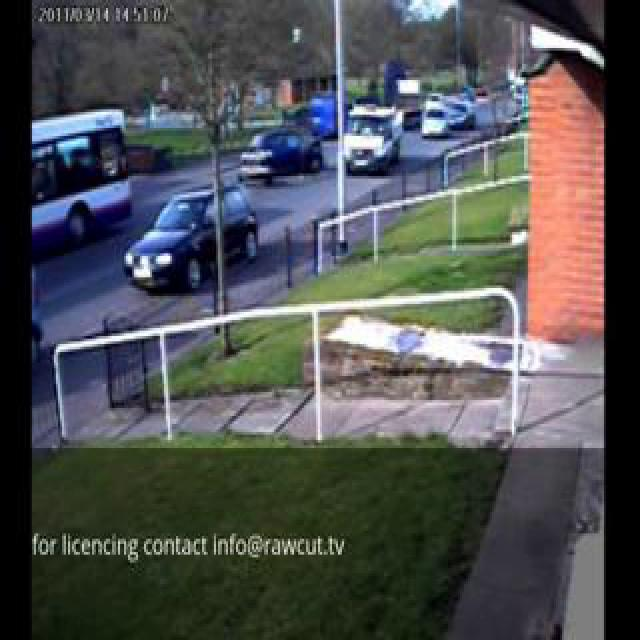road accidents: (211, 0, 563, 640)
